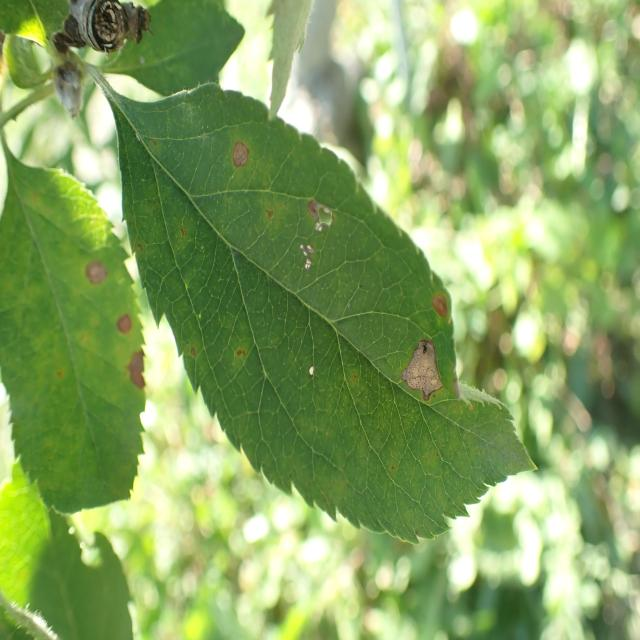frog-eye-leaf-spot: (111, 80, 540, 546), (0, 150, 148, 516)
